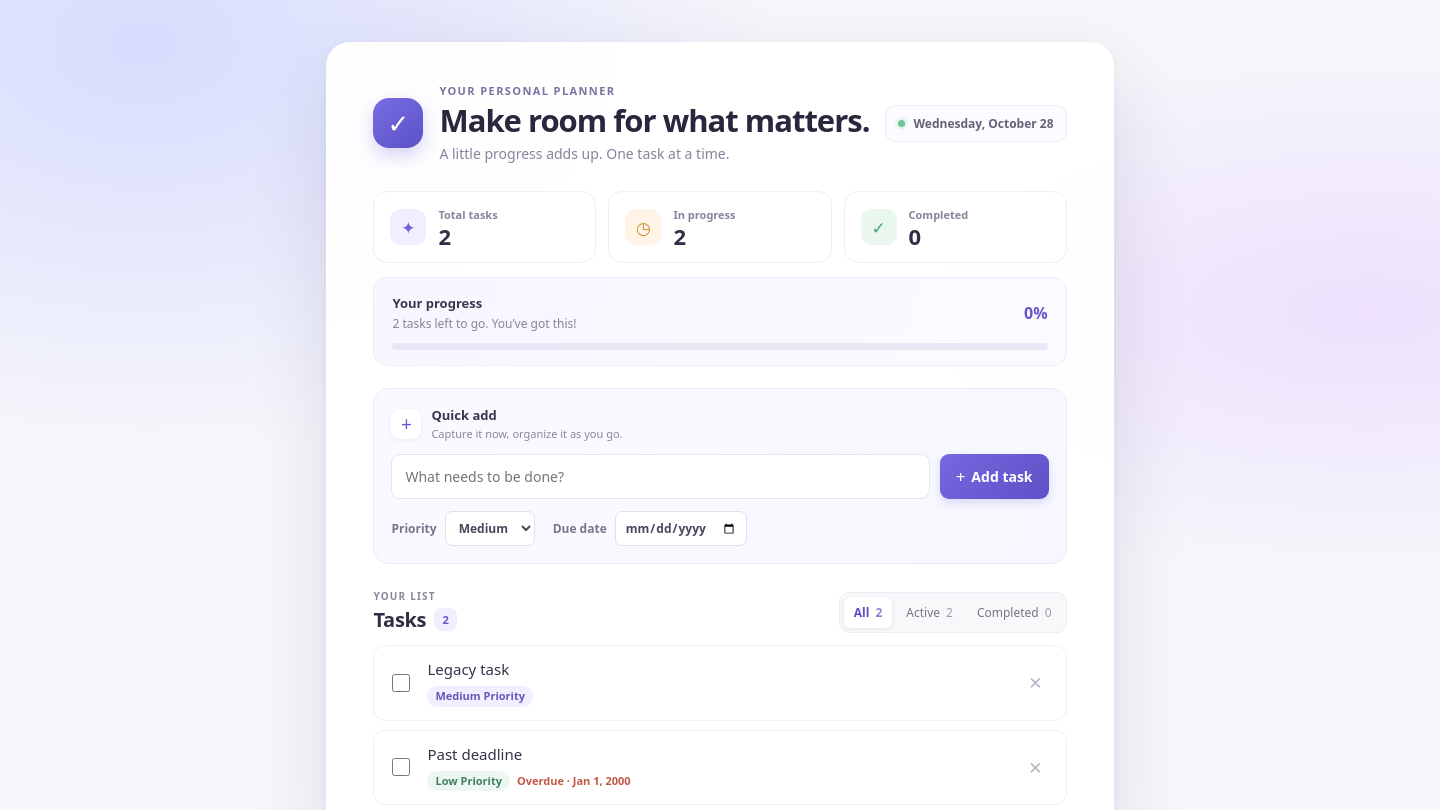
shows overdue dates only for incomplete tasks and supports older saved tasks
Expected: the text "medium priority" is shown, left=427, top=686, right=533, bottom=707
Expected: the text "Overdue · Jan 1, 2000" is shown, left=517, top=773, right=631, bottom=789
Click the checkbox named "Mark Past deadline as complete": (401, 767) left=392, top=758, right=410, bottom=776
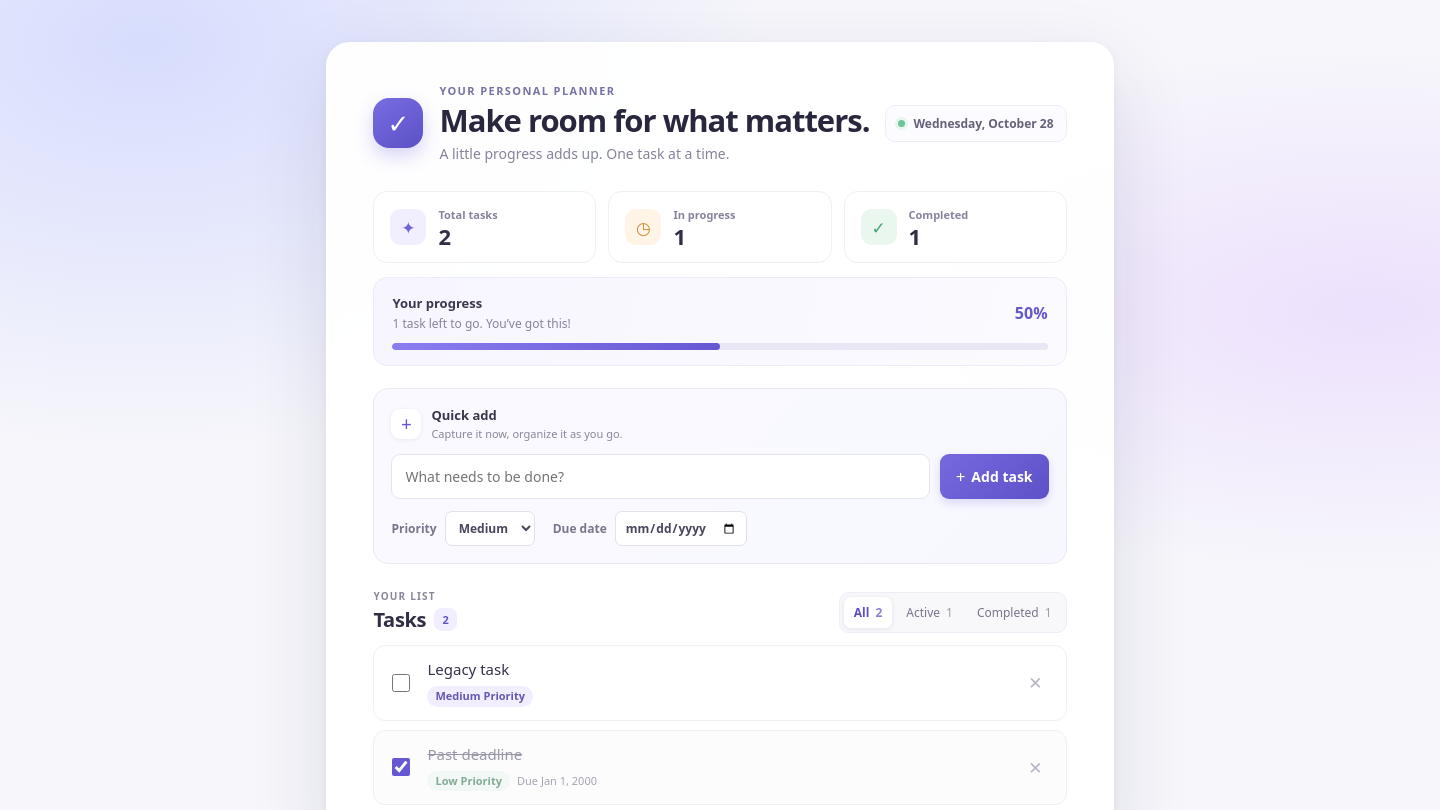
Now the text "Due Jan 1, 2000" is shown, box left=517, top=773, right=597, bottom=789
Now the text "Overdue · Jan 1, 2000" is gone
